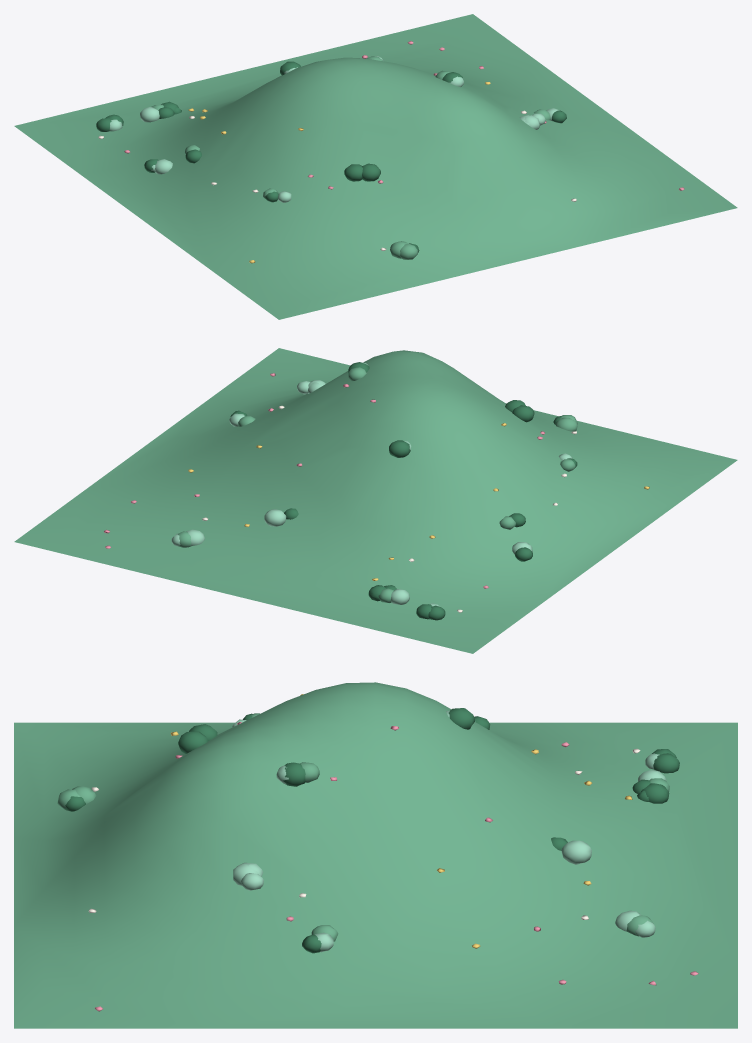
File: land_meadow.glb
3 views of the same model, one above another, from view 1: azimuth 30°, elevation 25°; view 2: azimuth 150°, elevation 25°; view 3: azimuth 270°, elevation 25° (orthographic). The views are drawn at different scales.
Visible parts, largest first — view 1: land_meadow; view 2: land_meadow; view 3: land_meadow.
Boxes of the visible parts, bbox=[...] form: land_meadow: bbox=[14, 14, 737, 319]; land_meadow: bbox=[14, 348, 737, 653]; land_meadow: bbox=[14, 682, 737, 1028].
Size of the model in its own units: 40 by 9.71 by 40.
1 material, 1 textured.
